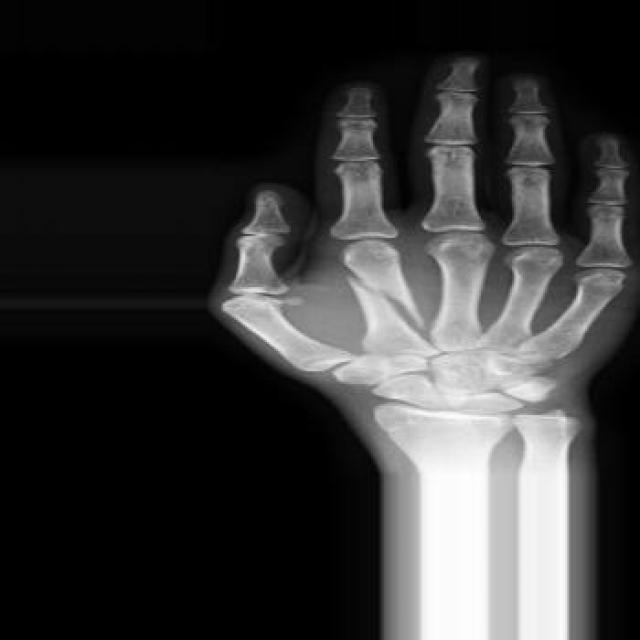Fracture: (336, 271, 431, 337)
